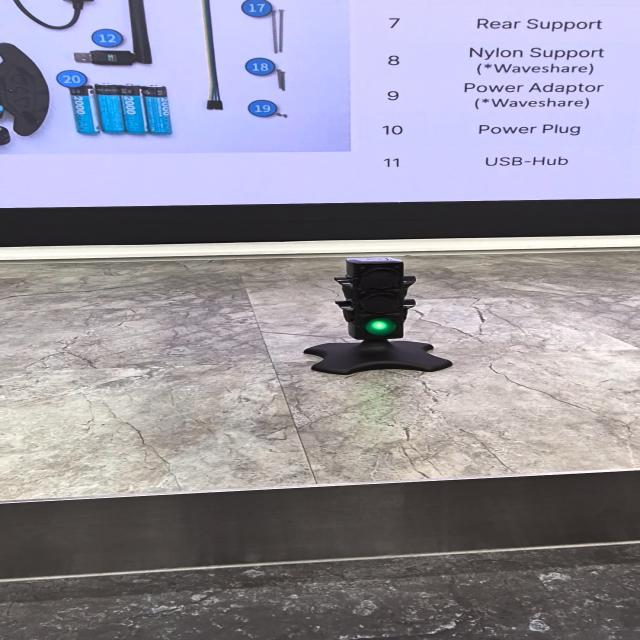green_light: (365, 319, 397, 335)
